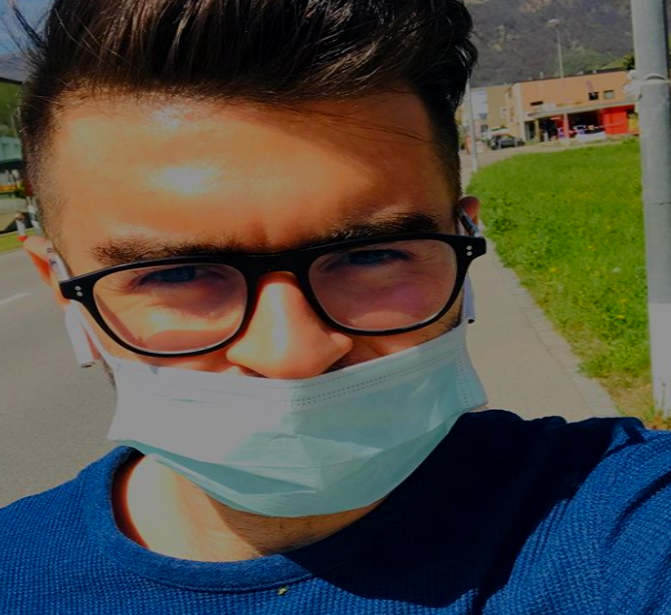mask_weared_incorrect: (9, 43, 493, 525)
